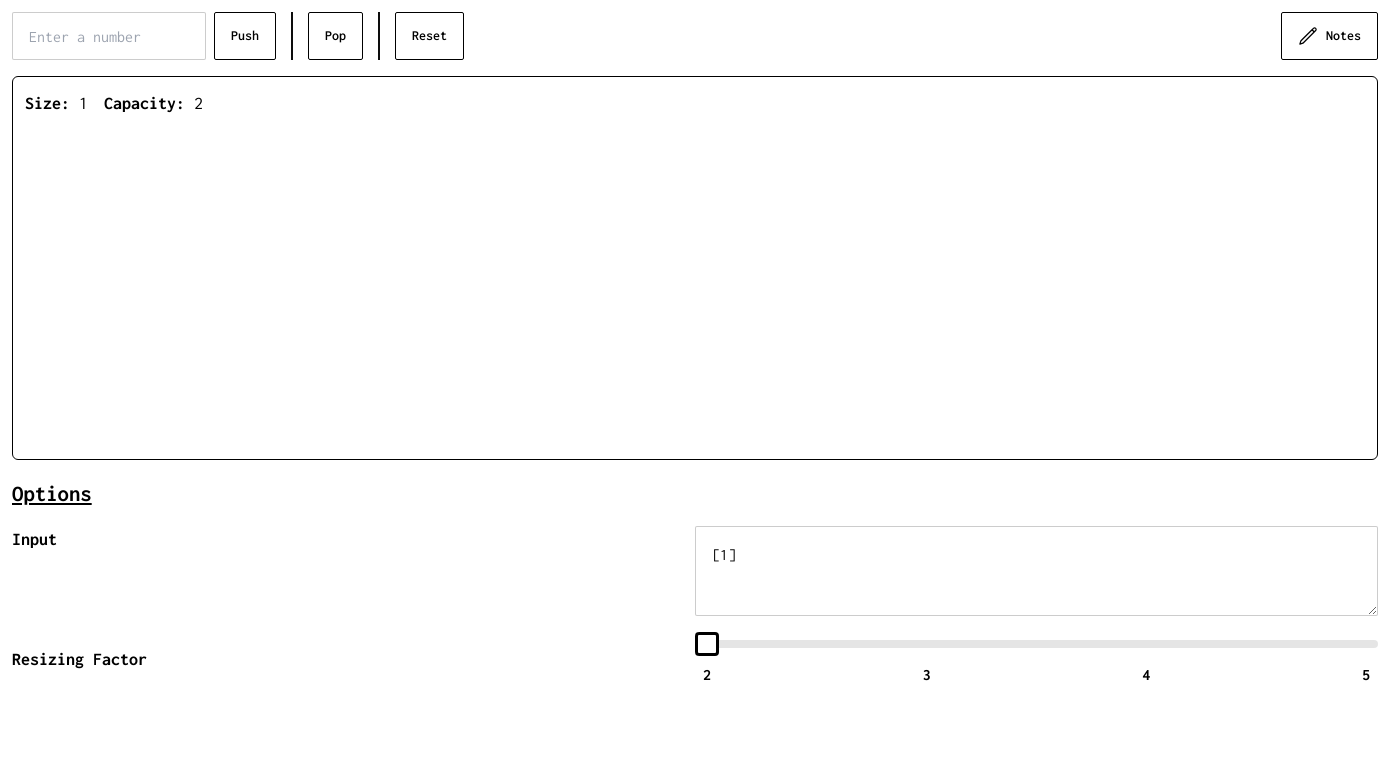
DynamicArrayPG › should reset state when clicking Reset button
Note: First, push a new element
Type "5" into the field with placeholder "Enter a number" at (109, 36), box [12,12,206,60]
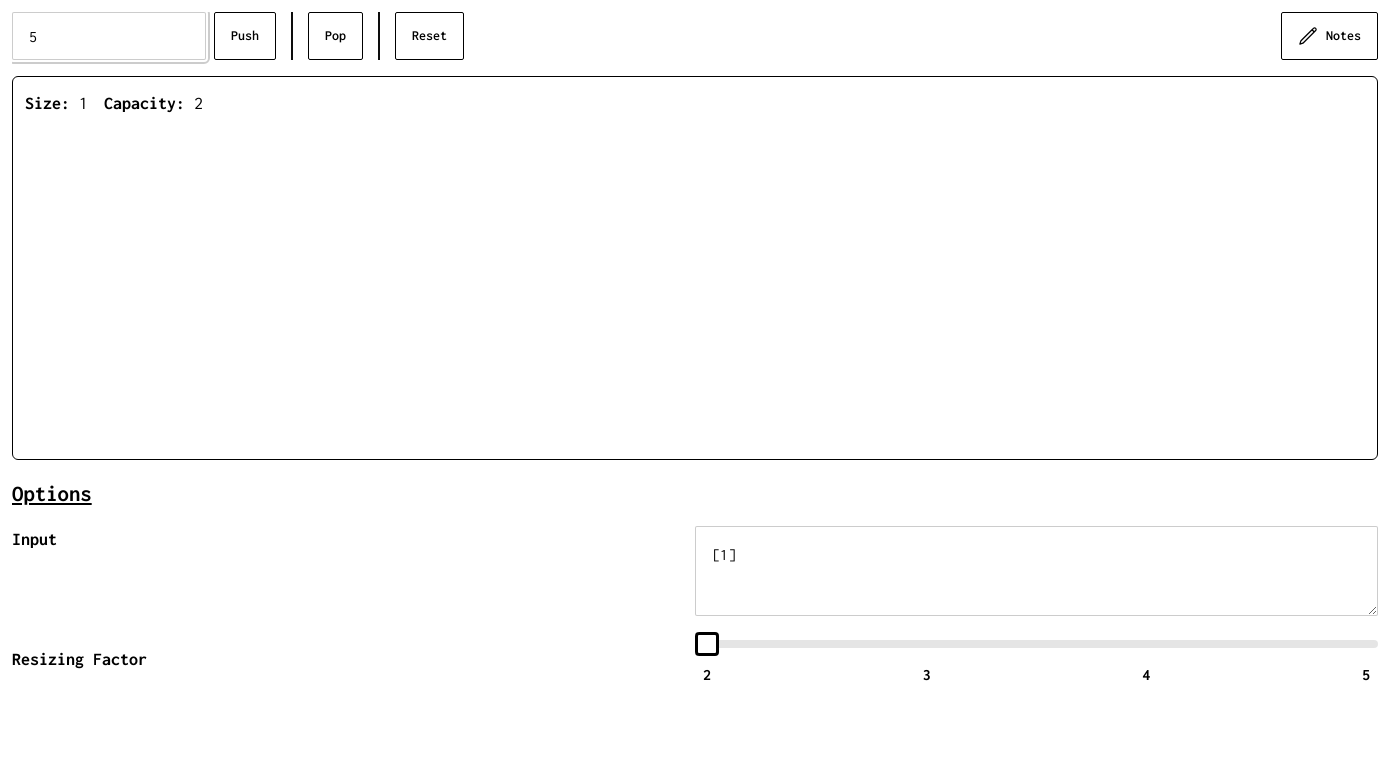
Click the button "Push" at (245, 36), box [214,12,276,60]
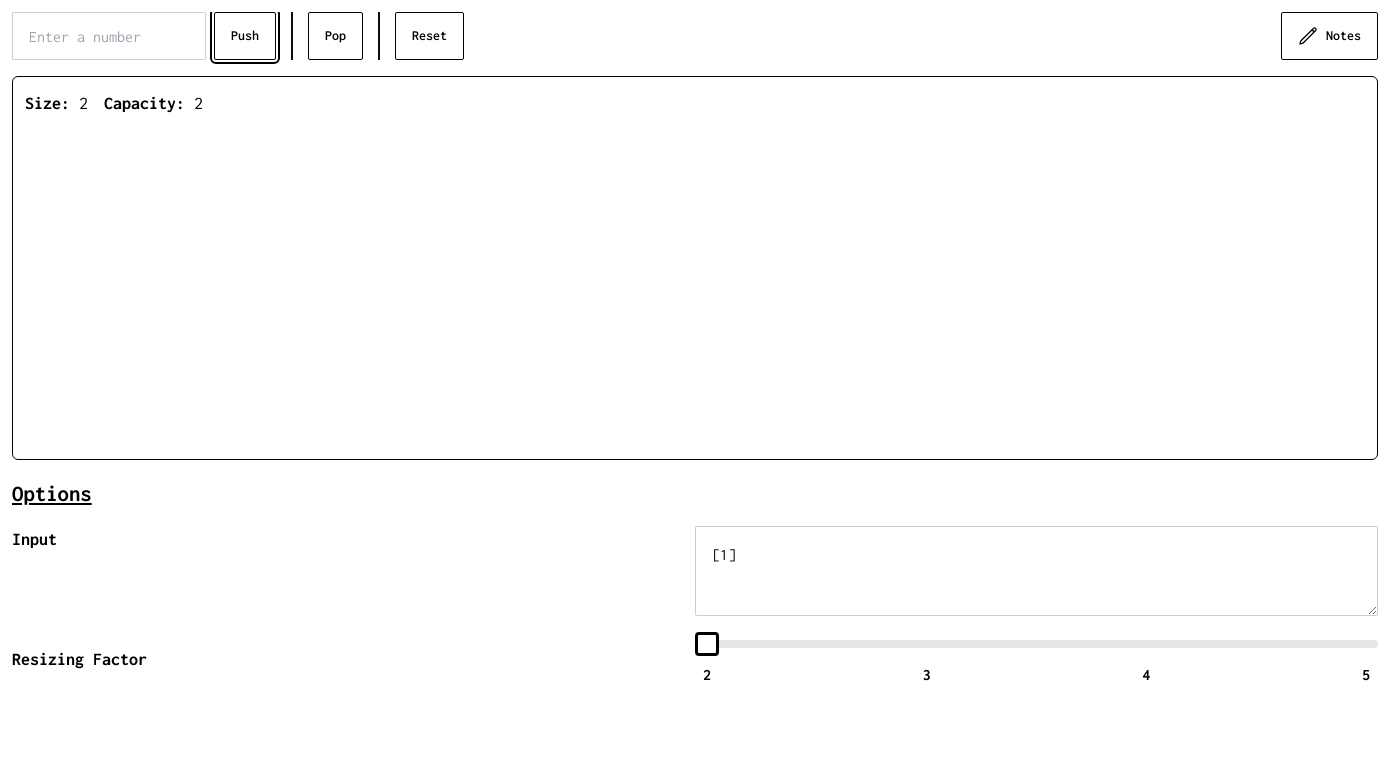
Note: Then reset
Click the button "Reset" at (430, 36), box [395,12,464,60]
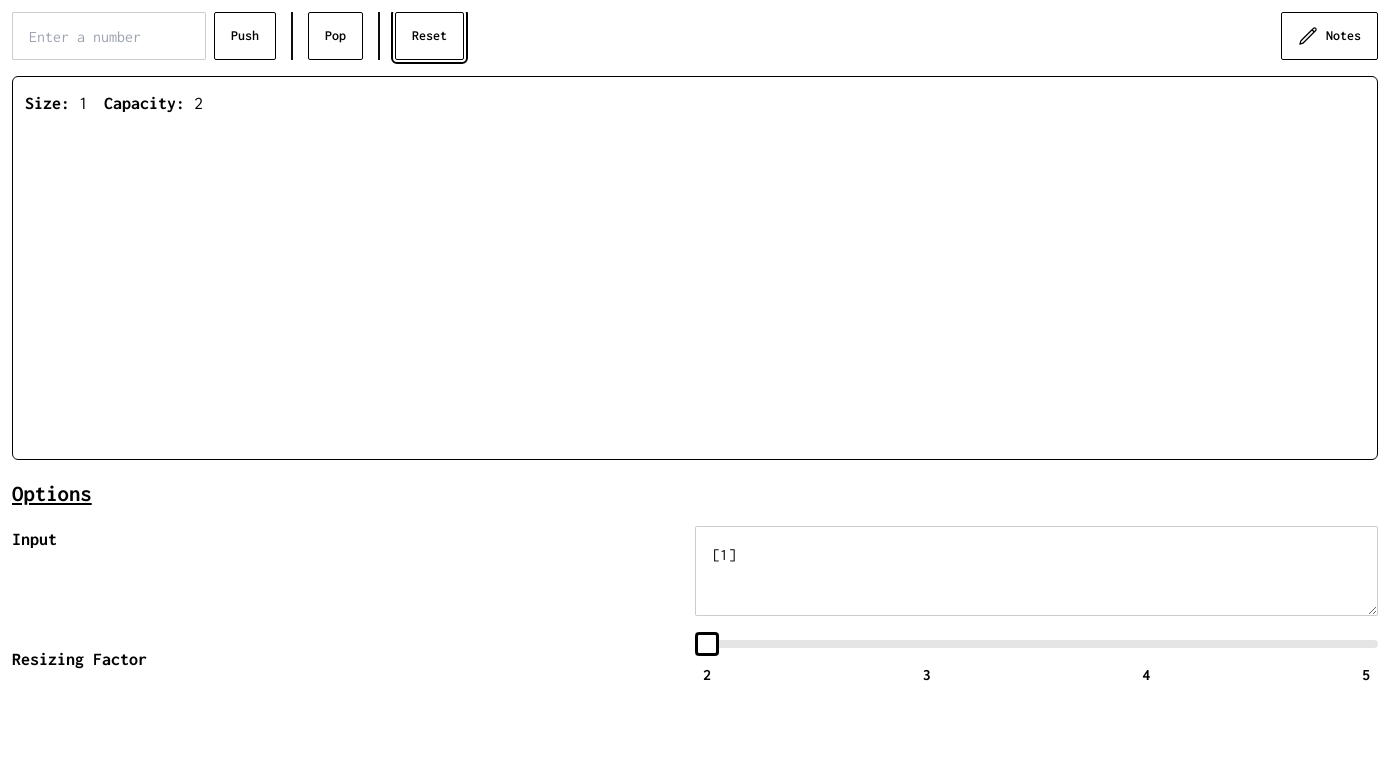
expect the text with test id "capacity" reads "2": met, box [194,94,203,112]
expect the text with test id "size" reads "1": met, box [79,94,88,112]
